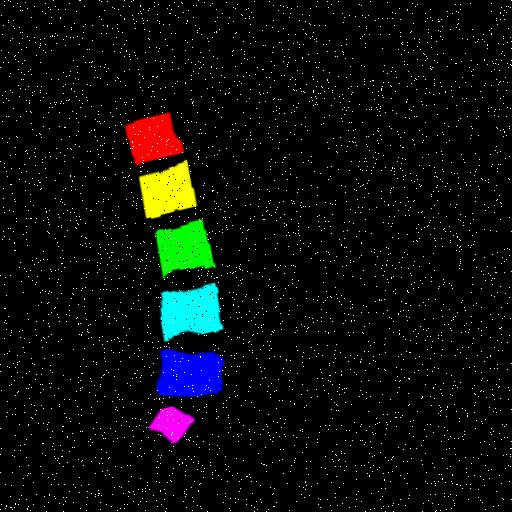L1: (129, 112, 187, 164)
L2: (142, 161, 200, 218)
L3: (159, 220, 219, 277)
L4: (166, 284, 229, 339)
L5: (163, 352, 229, 396)
S1: (156, 407, 201, 444)
